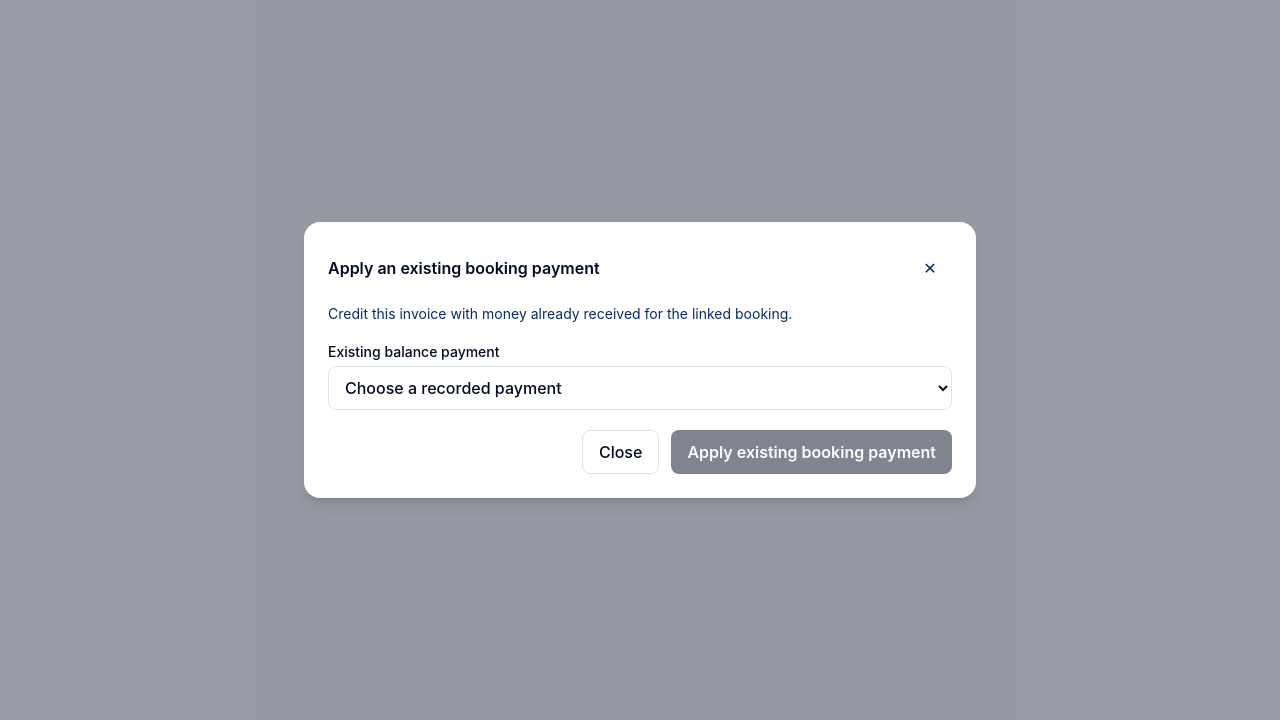
Scenario: apply an existing booking payment › holds refunded sources without sending a payment request
Select "£120.00 · 2026-11-04 · Recorded balance" in the dropdown labelled "Existing balance payment" at (640,388), box x1=328 y1=366 x2=952 y2=410
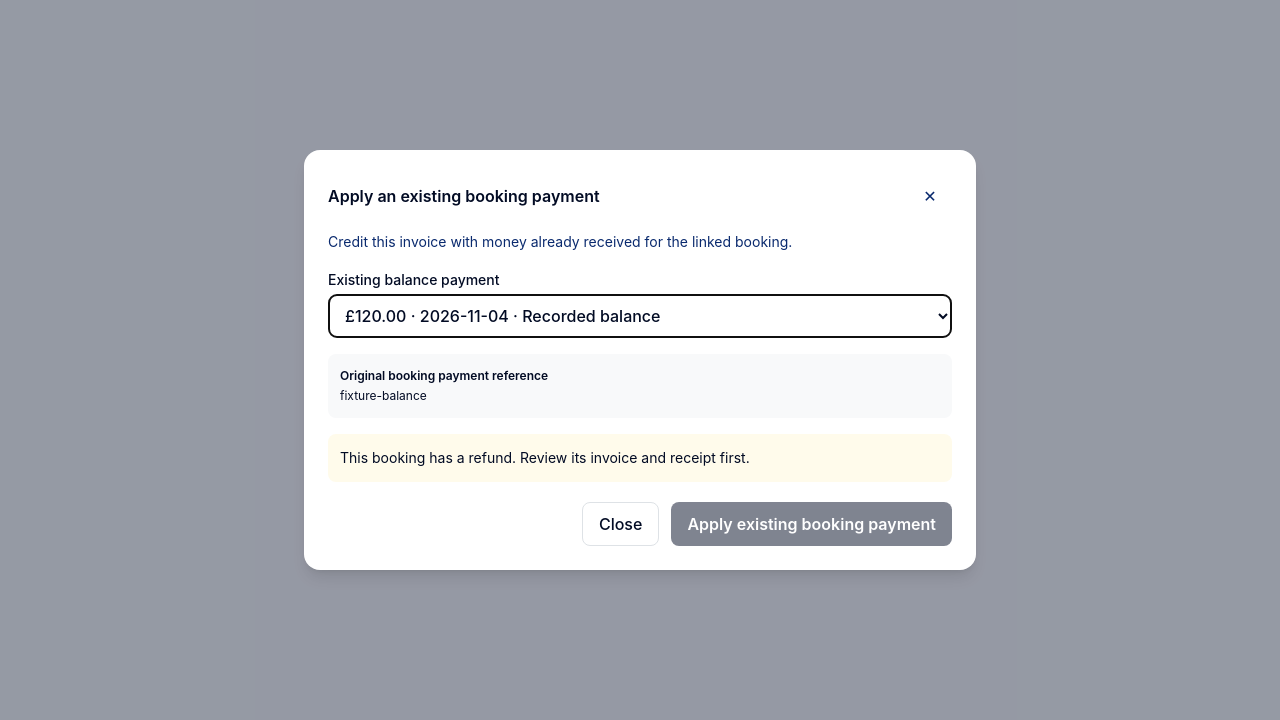
Expected: the button "Apply existing booking payment" is disabled, x1=671 y1=502 x2=952 y2=546
Now the text "This booking has a refund. Review its invoice and receipt first." is shown, box x1=328 y1=434 x2=952 y2=482
